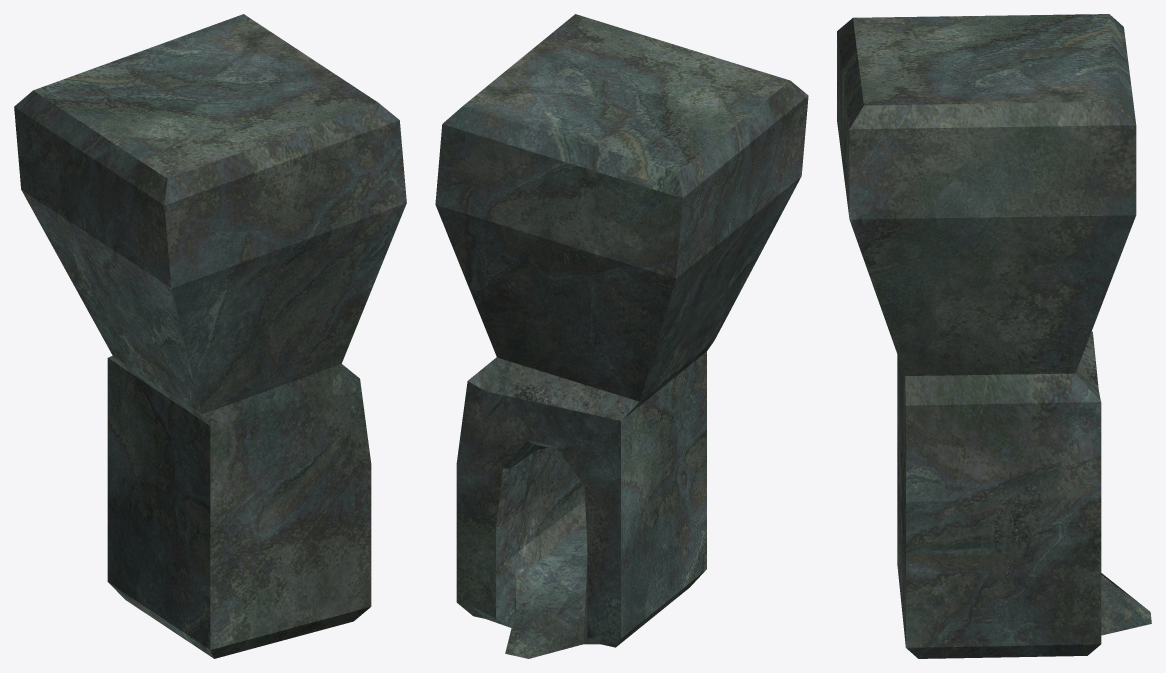
File: 4_Rocks_NewNormal.glb
3 renders of one model, left to right at view 1: azimuth 30°, elevation 25°; view 2: azimuth 150°, elevation 25°; view 3: azimuth 270°, elevation 25°, orthographic. The views are drawn at different scales.
Parts seen in each view (by area): view 1: Pilla-col; view 2: Pilla-col; view 3: Pilla-col.
Part boxes in pixels (x1,y1,x2,y2): Pilla-col: (14, 14, 406, 658); Pilla-col: (435, 14, 808, 658); Pilla-col: (837, 14, 1151, 658).
Size of the model in its own units: 37.3 by 74.75 by 38.33.
Materials: 1 (1 with a texture image).
